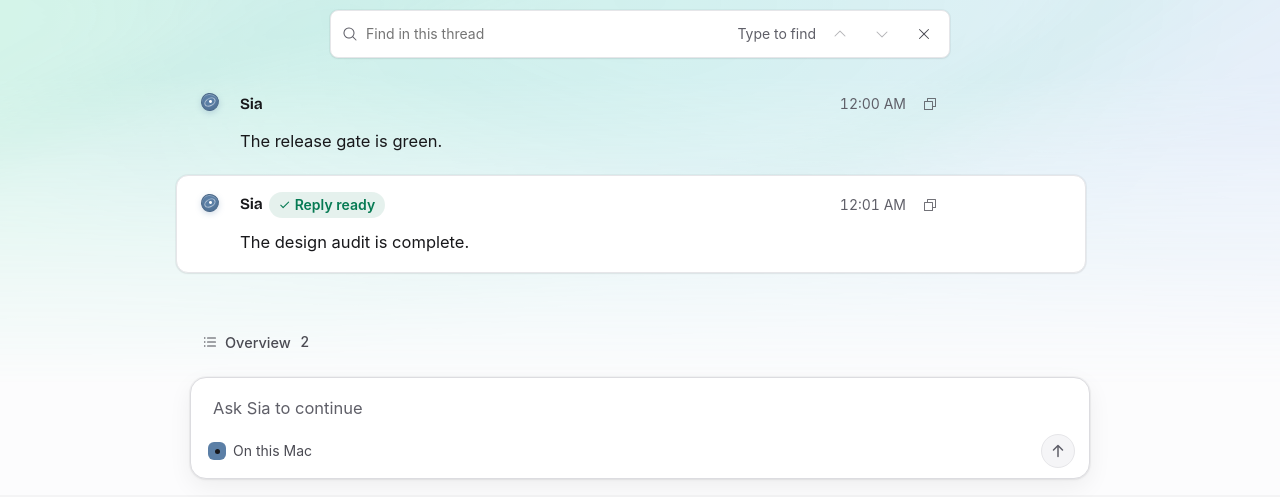
Test: Conversation continuity tools › finds matching events inside the open thread
Type "release gate" into the search field labelled "Find in this thread".
click(548, 34); type("release gate")  # box [364, 23, 732, 45]
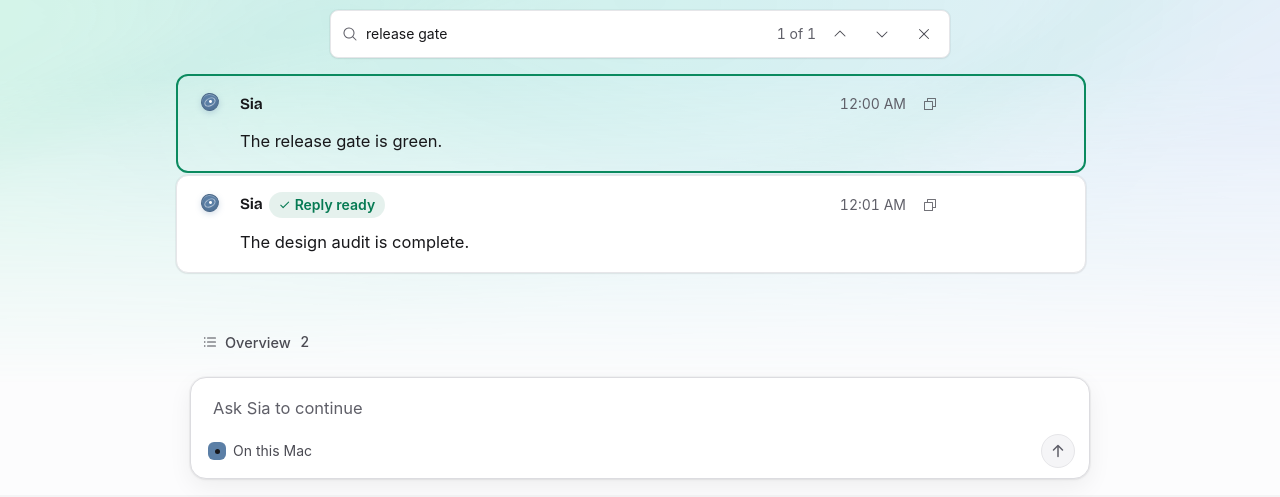
expect the text "1 of 1" is shown: met, box [777, 25, 816, 42]
Replace the text in the search field named "Find in this thread" with "nothing like this" at (555, 34), box [364, 23, 746, 45]
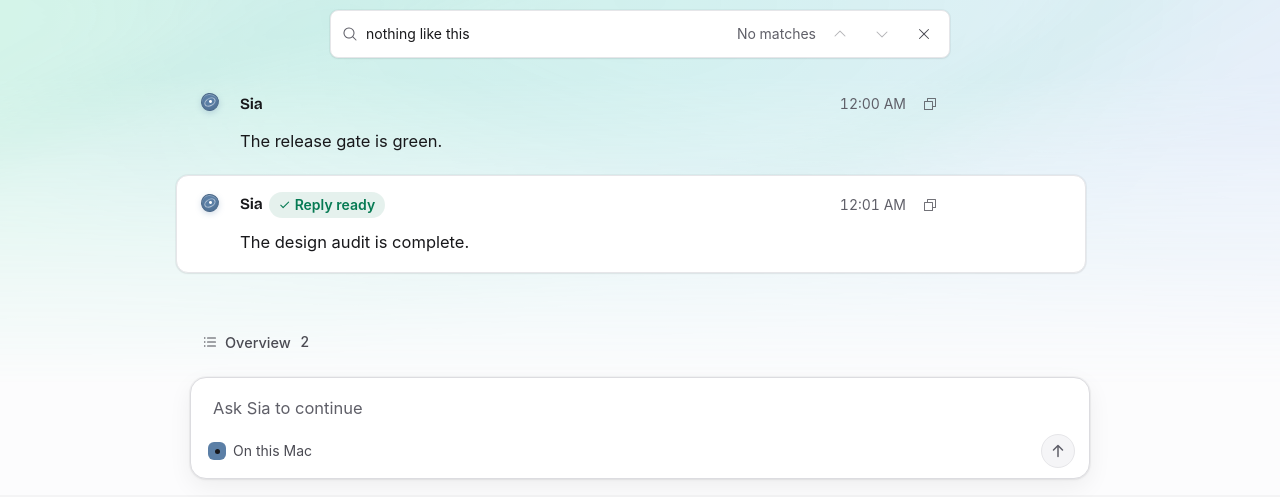
expect the text "No matches" is shown: met, box [737, 24, 816, 44]
